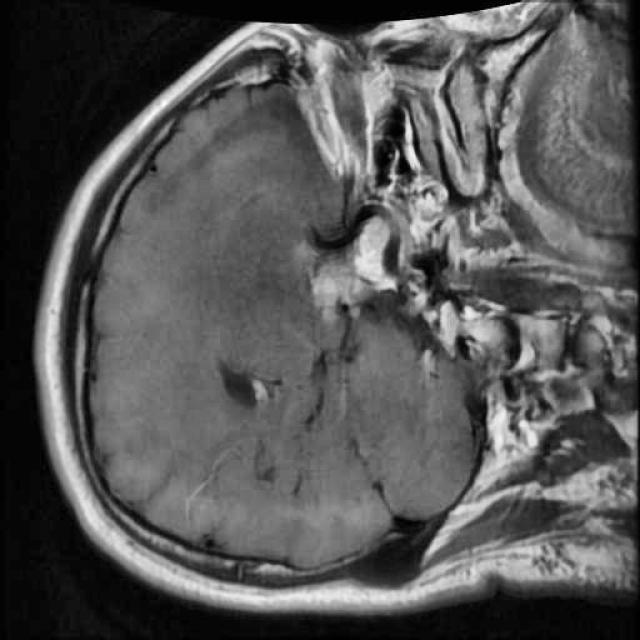Tumor: (285, 208, 412, 328)
